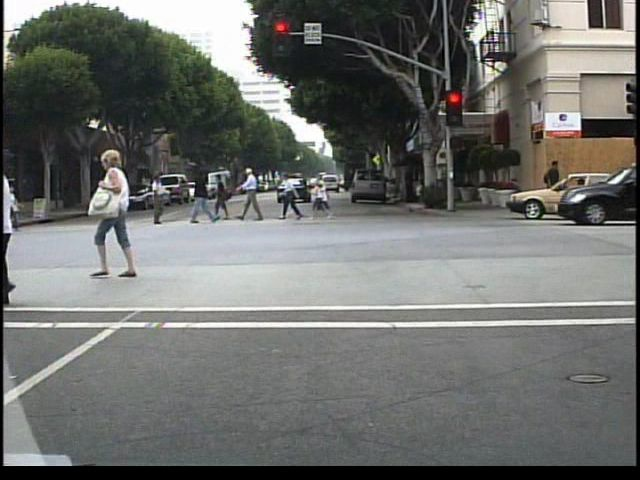person: (90, 150, 148, 281), (186, 166, 217, 229), (239, 166, 269, 224), (211, 172, 236, 224), (281, 170, 305, 224), (148, 170, 169, 227), (544, 156, 564, 212), (4, 182, 25, 235), (20, 194, 40, 239)
